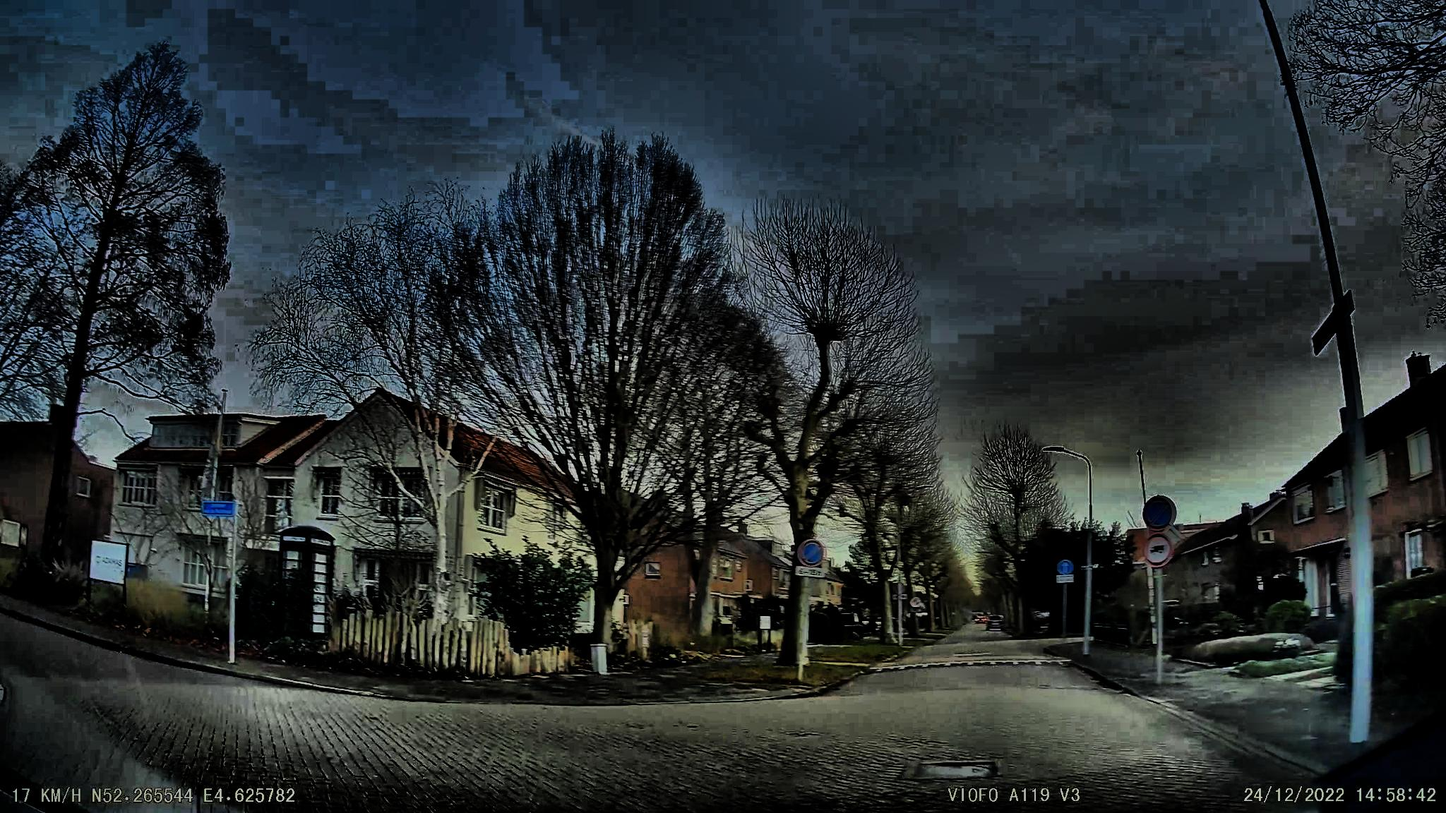Roads: (0, 612, 1252, 813)
